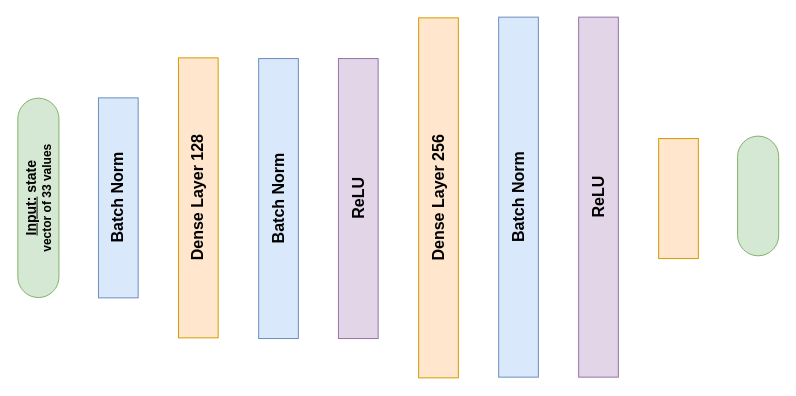
Image size: 796x396. Some labels were removed from this diagram. Here are the shapes that lost their labels. From the top down, the centre of each, then its label:
At (678,198): "Dense Layer 4".
At (758,195): "Output: action vector of 4 values".
